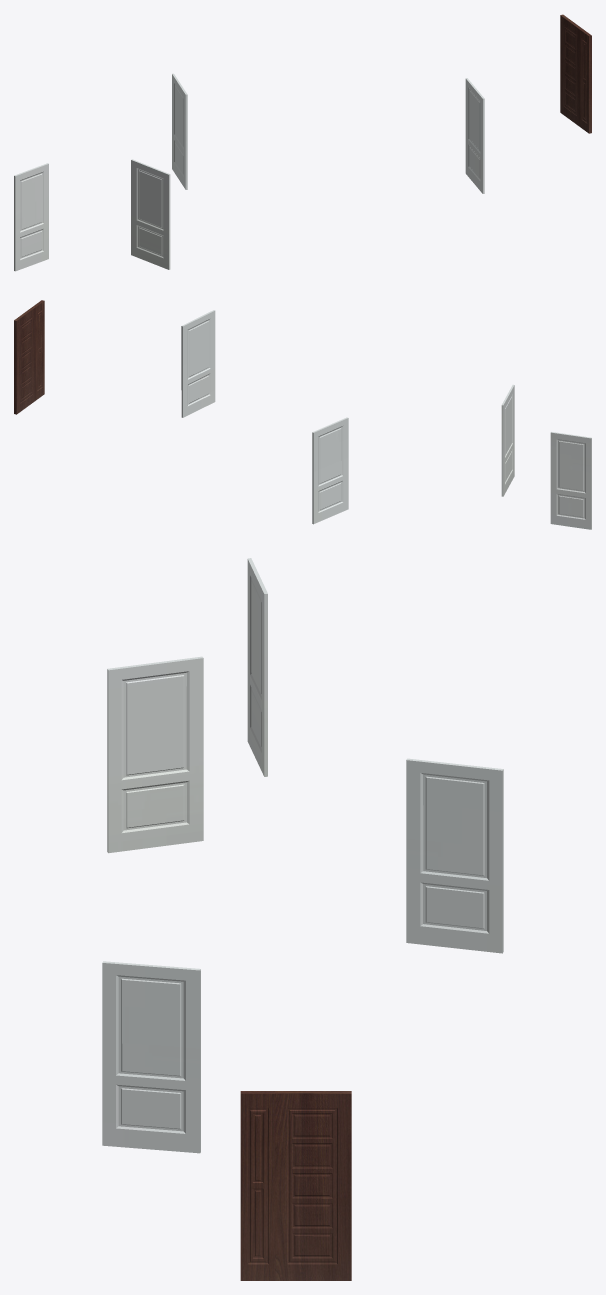
The model's file is men.fbx.
The picture shows the model from 3 angles, top to bottom: view 1: azimuth 30°, elevation 25°; view 2: azimuth 150°, elevation 25°; view 3: azimuth 270°, elevation 25°; orthographic projection. The views are drawn at different scales.
Parts seen in each view (by area): view 1: men; view 2: men; view 3: men.
Part boxes in pixels (bbox=[...]): men: bbox=[14, 14, 591, 271]; men: bbox=[14, 300, 591, 529]; men: bbox=[102, 558, 503, 1280].
Bounding box in the file's own units: 1324 × 215 × 417.
